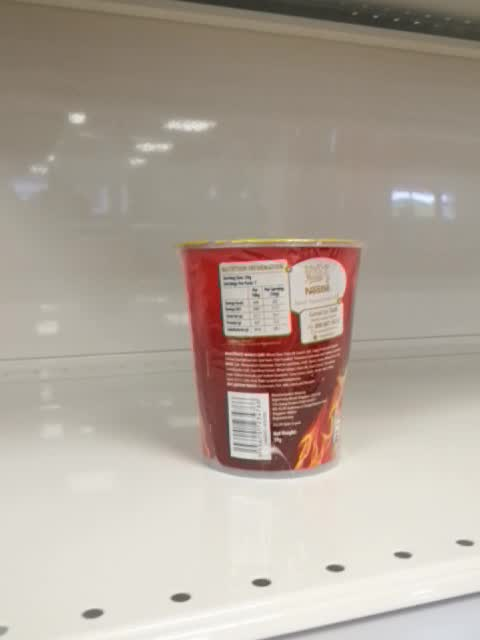maggi: (176, 239, 363, 480)
